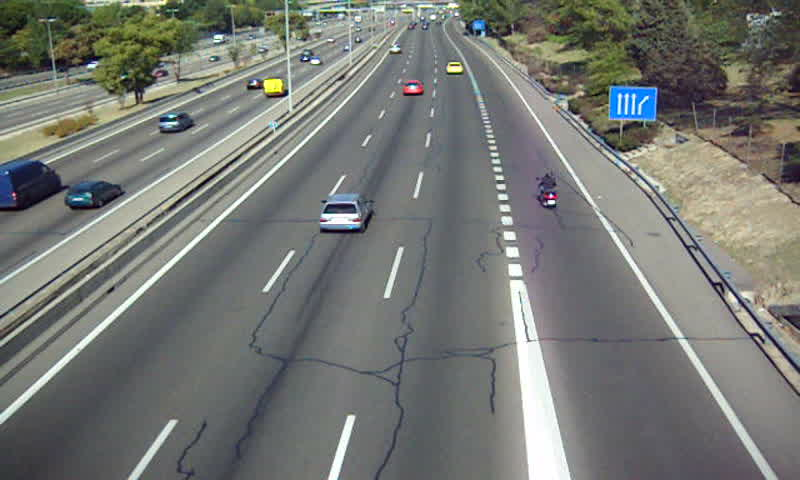car: (320, 194, 374, 230), (401, 79, 422, 98), (446, 62, 464, 73)
motorcycle: (538, 170, 561, 209)
